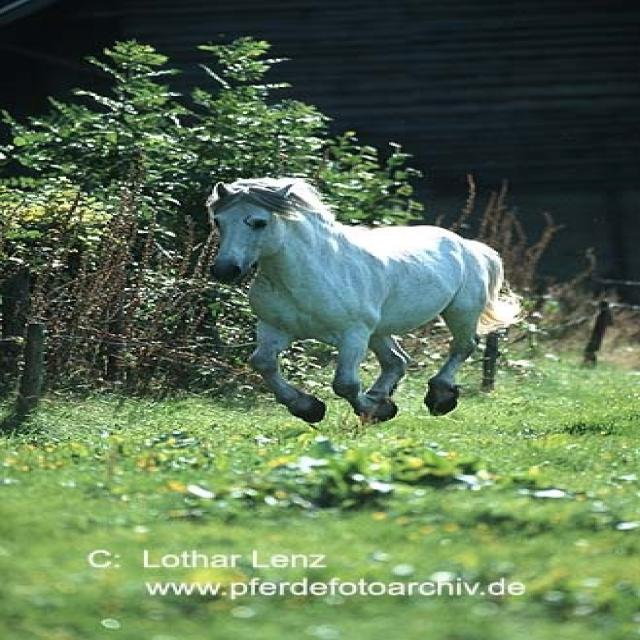horse: (209, 176, 513, 425)
